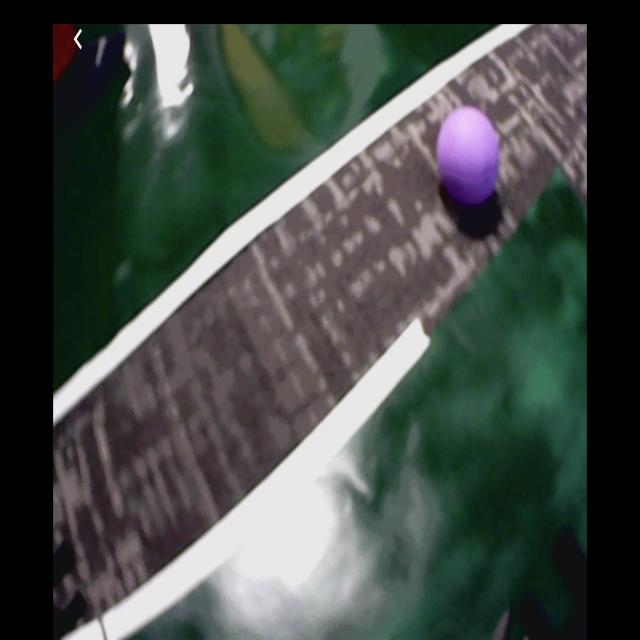ball: (435, 106, 501, 208)
